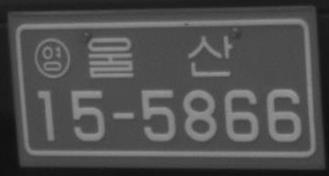-: (110, 109, 137, 122)
1: (30, 90, 63, 141)
5: (140, 87, 176, 143), (70, 88, 106, 142)
6: (265, 87, 303, 143), (223, 87, 259, 143)
8: (181, 88, 217, 142)
영: (34, 36, 70, 80)
울산_D: (87, 34, 233, 77)
